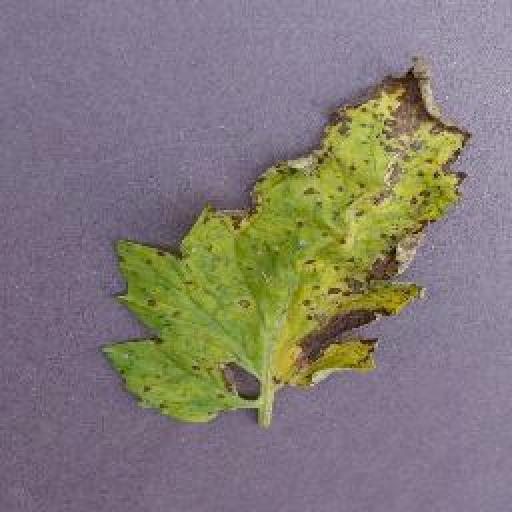disease_tomato: (94, 54, 472, 428)
